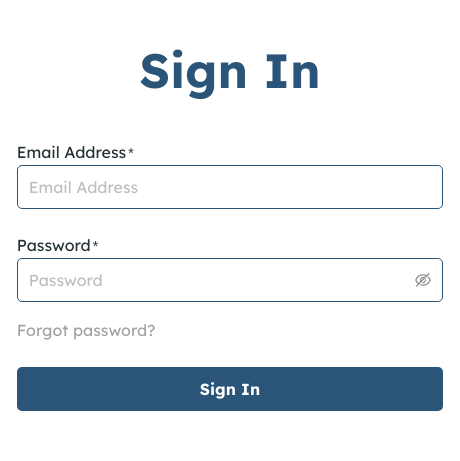
Test: Sign In Form › Sign In: Form validation behaviour › validate user inputs, and provides filled input error messages
Type "vv@vv.v" into the field with test id "email" at (230, 187), box [17,165,443,209]
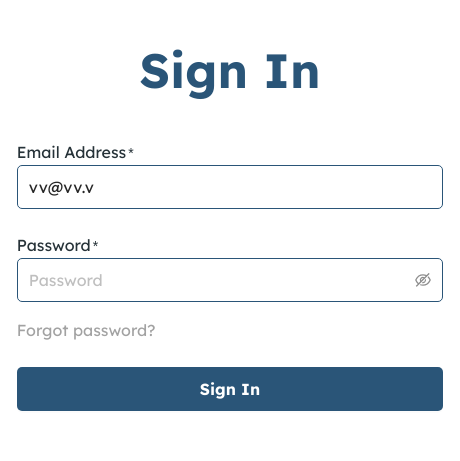
Type "123456" into the password field with test id "password" at (220, 280), box [29,263,411,297]
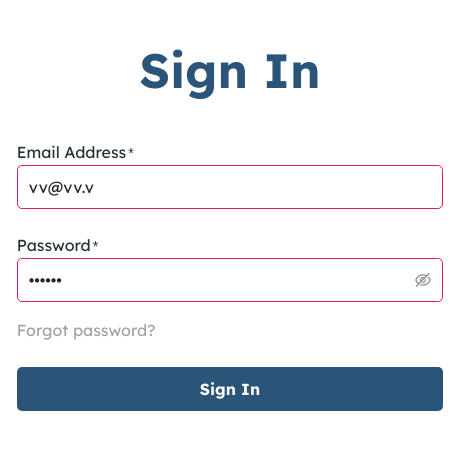
Submit the form from the button, box [17,367,443,411]
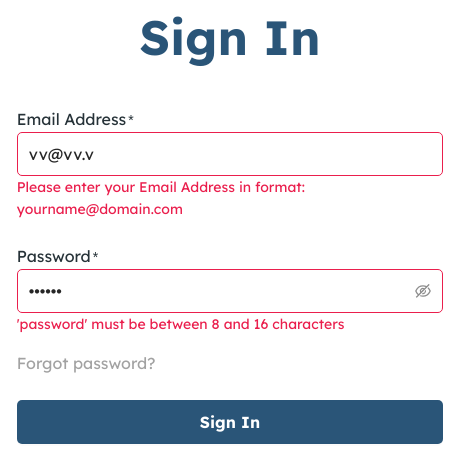
Expected: the text "Please enter your Email Address in format: yourname@domain.com" is shown, [17,178,305,218]
Expected: the text "'password' must be between 8 and 16 characters" is shown, [17,315,345,333]
